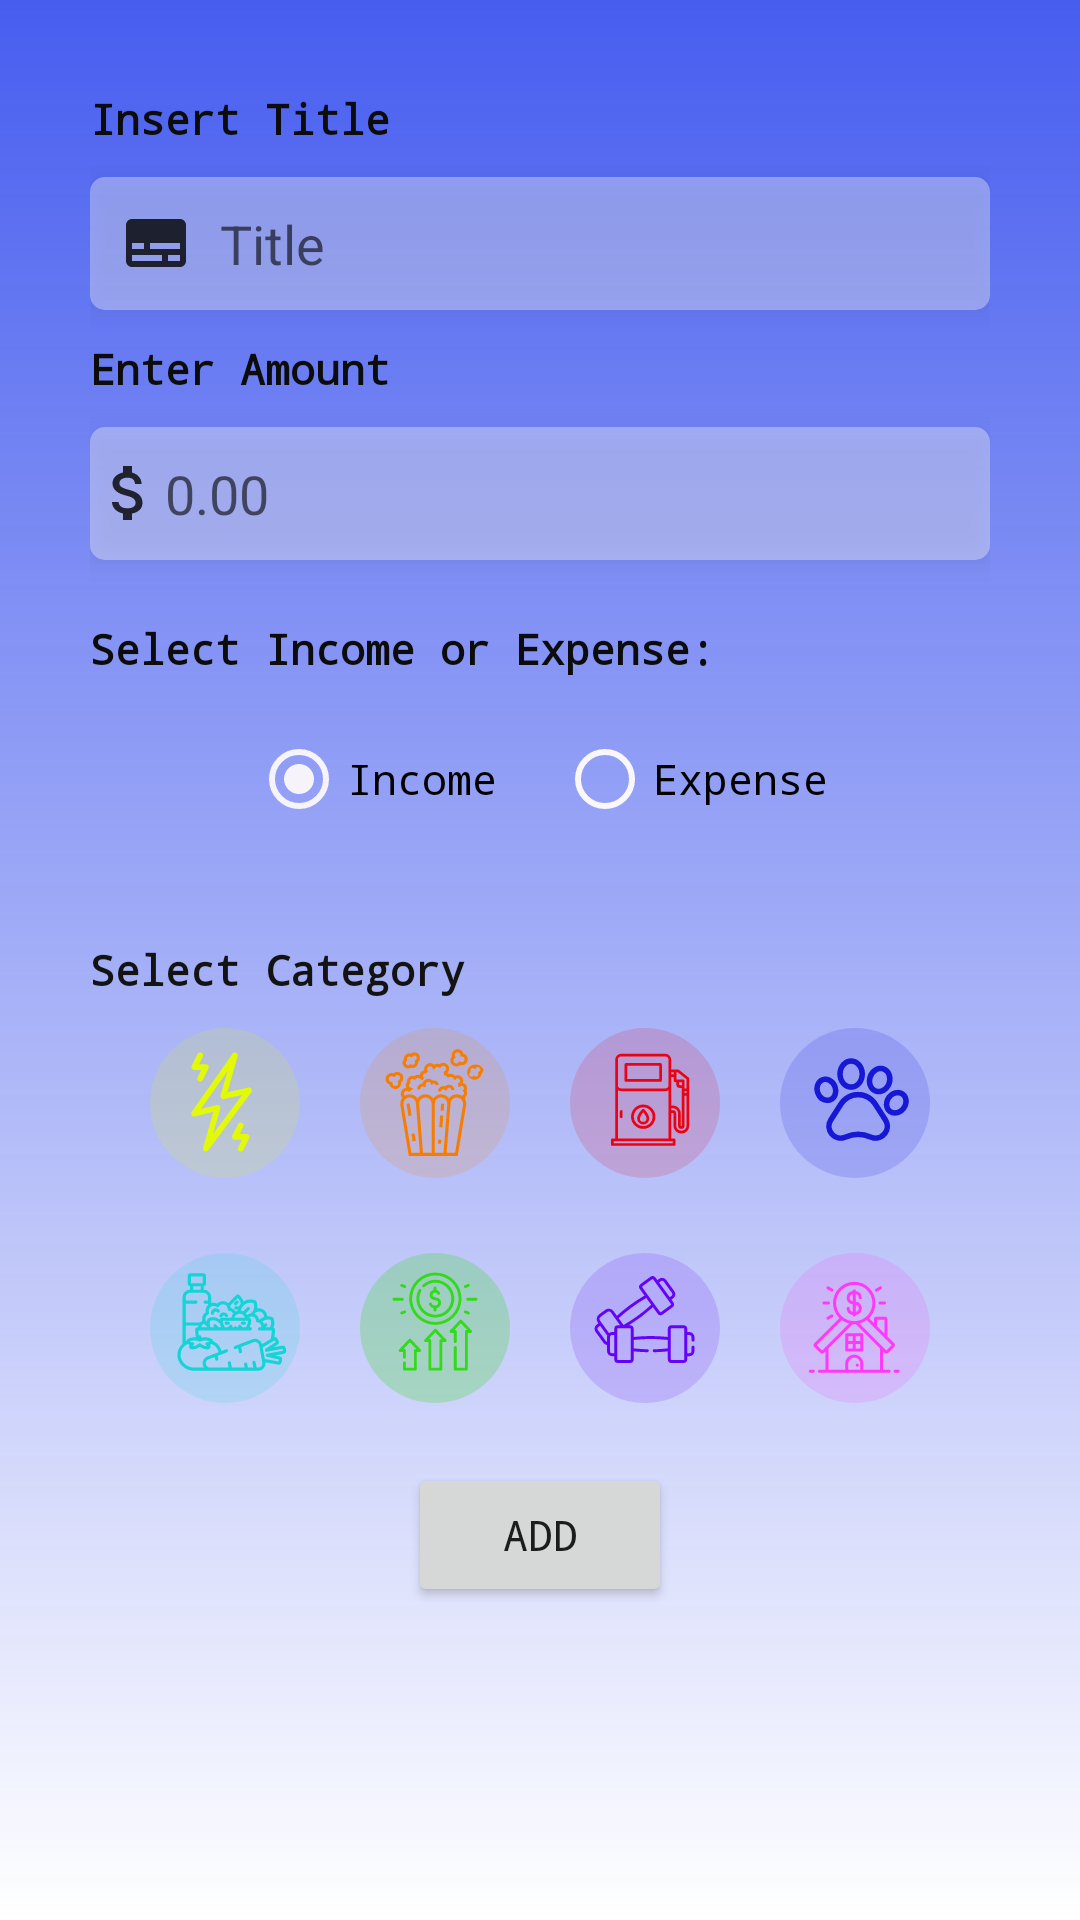

Point at icon controls on the screen. Image size 1080x1920, points as (x,y).
entertainment: (435,1103)
food: (225,1328)
gym: (645,1328)
increase: (435,1328)
pet: (855,1103)
rent: (855,1325)
travel: (645,1103)
utility: (225,1103)
